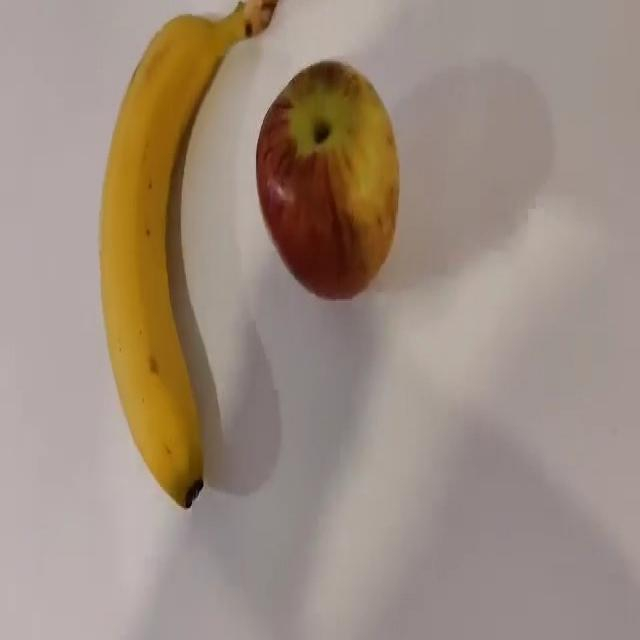Apple: (254, 58, 402, 304)
Banana: (100, 5, 224, 510)
